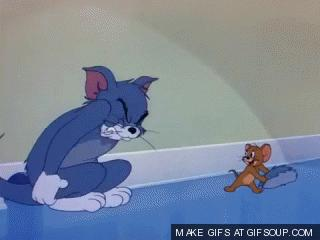tom: (1, 65, 159, 213)
